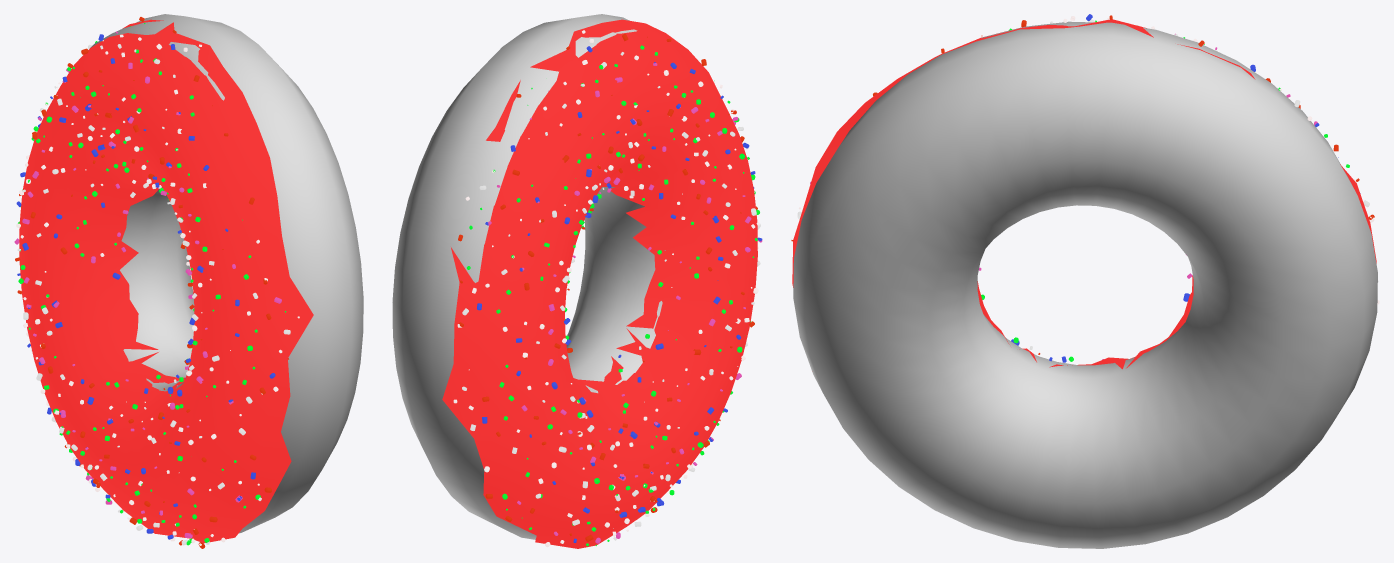
The model's file is ponch.glb.
3 renders of one model, left to right at view 1: azimuth 30°, elevation 25°; view 2: azimuth 150°, elevation 25°; view 3: azimuth 270°, elevation 25°, orthographic. The views are drawn at different scales.
Visible parts, largest first — view 1: Torus.002, Torus.003; view 2: Torus.002, Torus.003; view 3: Torus.003, Torus.002.
Boxes of the visible parts, <box> form: Torus.002: <box>19,19,313,543</box>; Torus.003: <box>90,14,363,533</box>; Torus.002: <box>442,19,757,548</box>; Torus.003: <box>392,14,665,539</box>; Torus.003: <box>793,21,1377,548</box>; Torus.002: <box>792,19,1376,369</box>.
Bounding box in the file's own units: 1.93 × 4.79 × 4.81.
